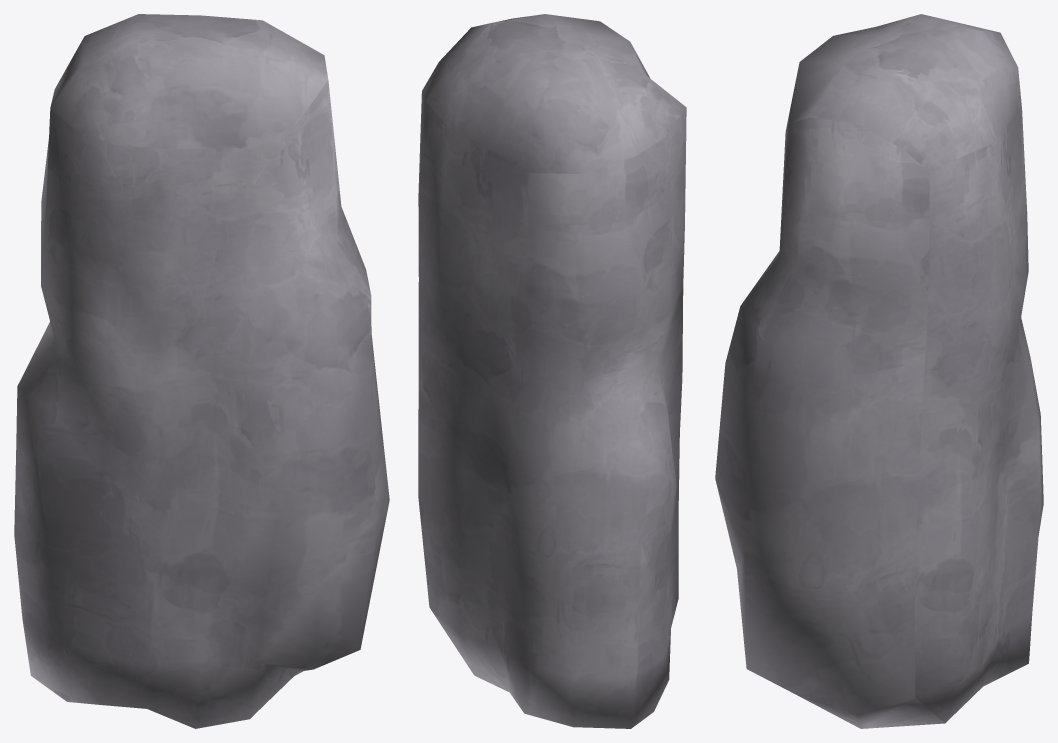
Rendered from Rock_1.fbx.
The picture shows the model from 3 angles, left to right: view 1: azimuth 30°, elevation 25°; view 2: azimuth 150°, elevation 25°; view 3: azimuth 270°, elevation 25°; orthographic projection. The views are drawn at different scales.
Visible parts, largest first — view 1: Rock_1; view 2: Rock_1; view 3: Rock_1.
Part boxes in pixels (x1,y1,x2,y2): Rock_1: (14,14,389,728); Rock_1: (418,14,686,728); Rock_1: (715,14,1043,728).
Size of the model in its own units: 4.8 by 10.19 by 4.64.
